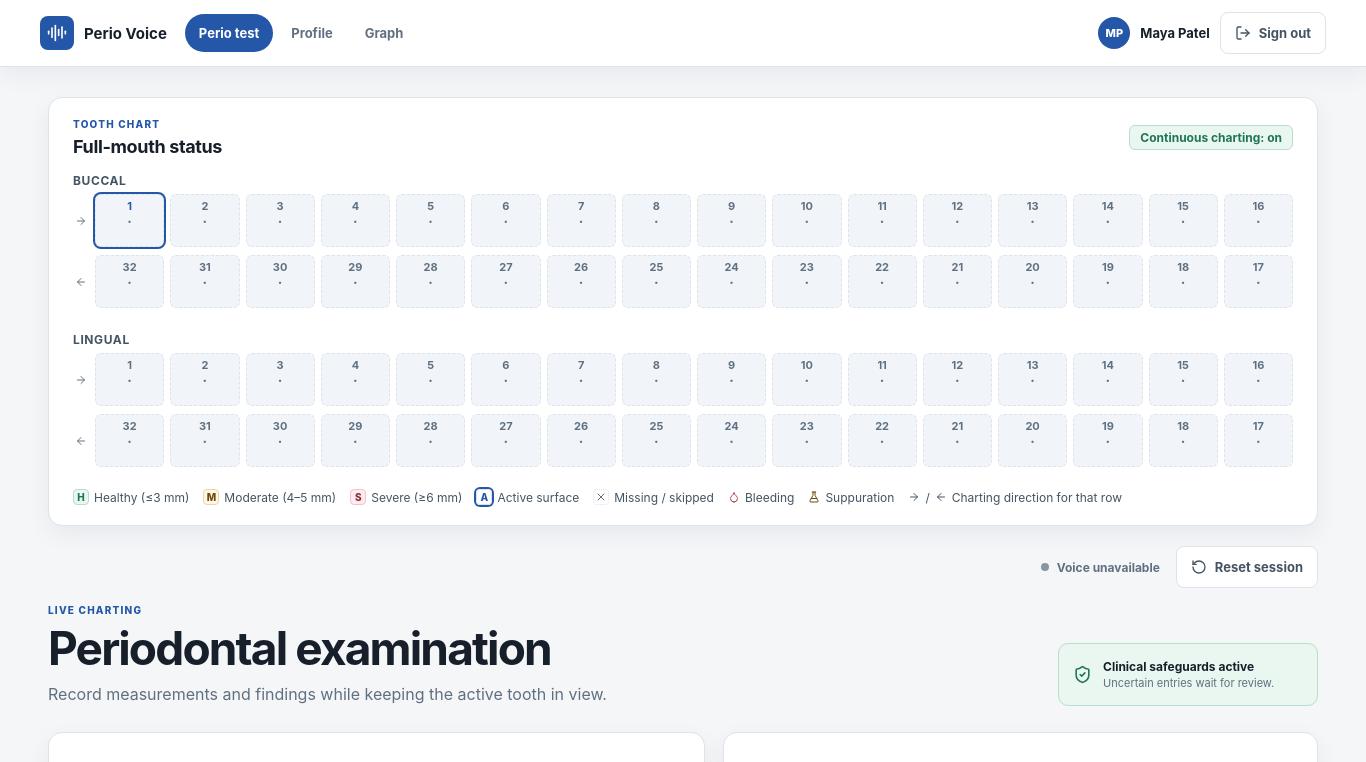
Scenario: speaker attribution › reports who the last utterance was attributed to
The image size is (1366, 762).
Click the link "Profile": (312, 33) [291,25,333,41]
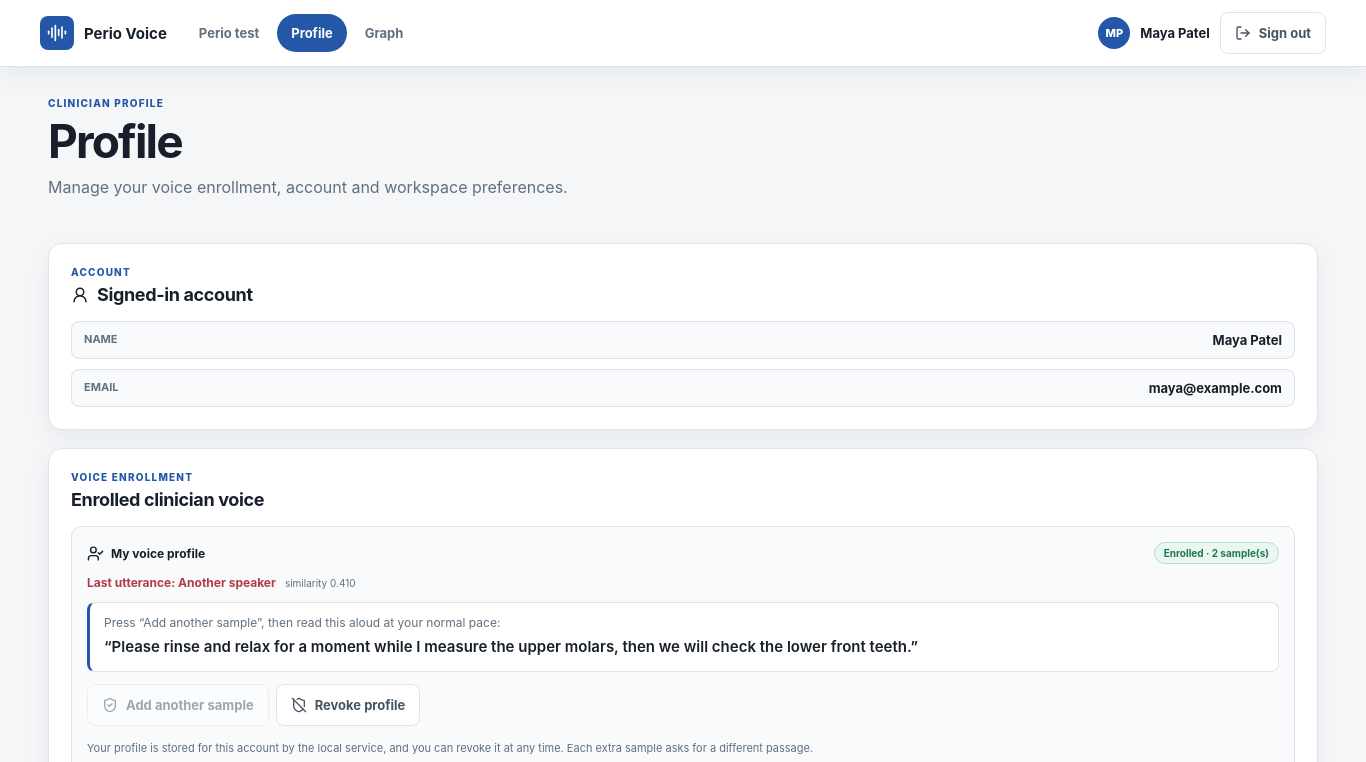
expect the text "Enrolled · 2 sample(s)" is shown: met, box [1154,542,1279,564]
expect the text "Last utterance: Another speaker" is shown: met, box [87,576,276,590]
expect the button "Revoke profile" is shown: met, box [276,684,420,726]
